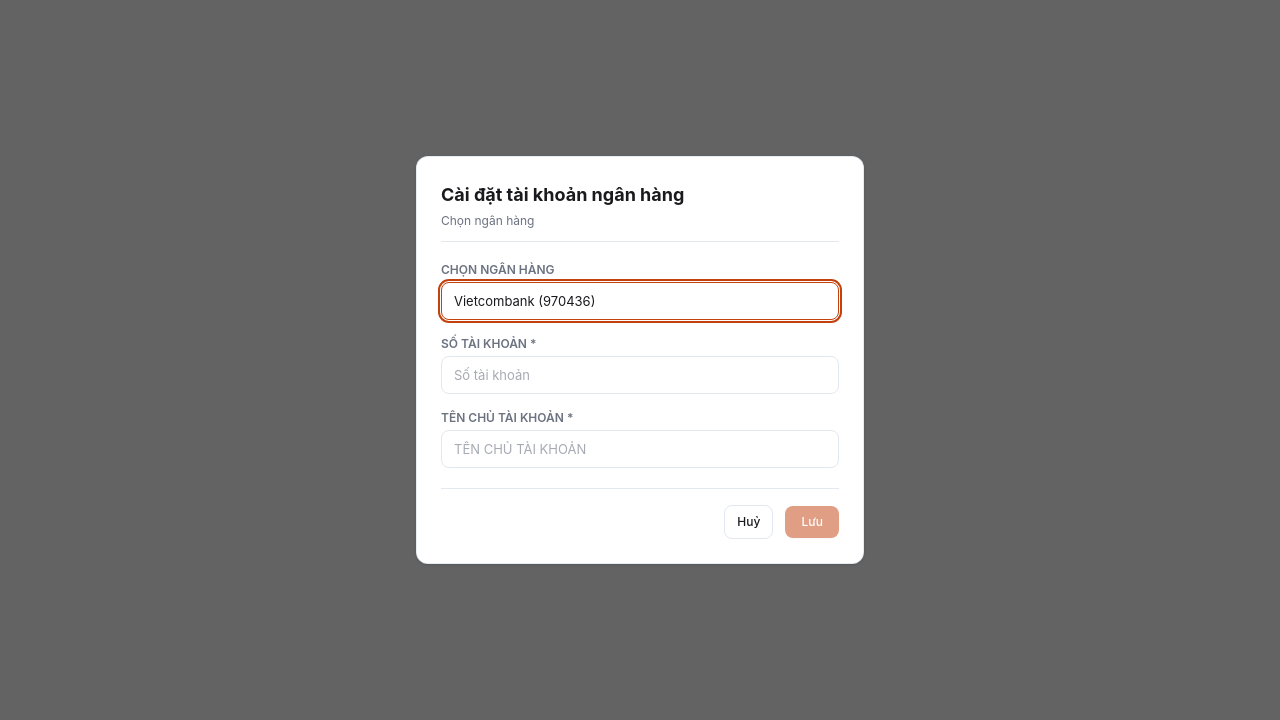
it: BankSettingsModal.vue › filters non-numeric characters from account number input
Step 1. Type "090-123.456 abc 789" into the field with placeholder "Số tài khoản" → {"x": 640, "y": 375}, box left=441, top=356, right=839, bottom=394
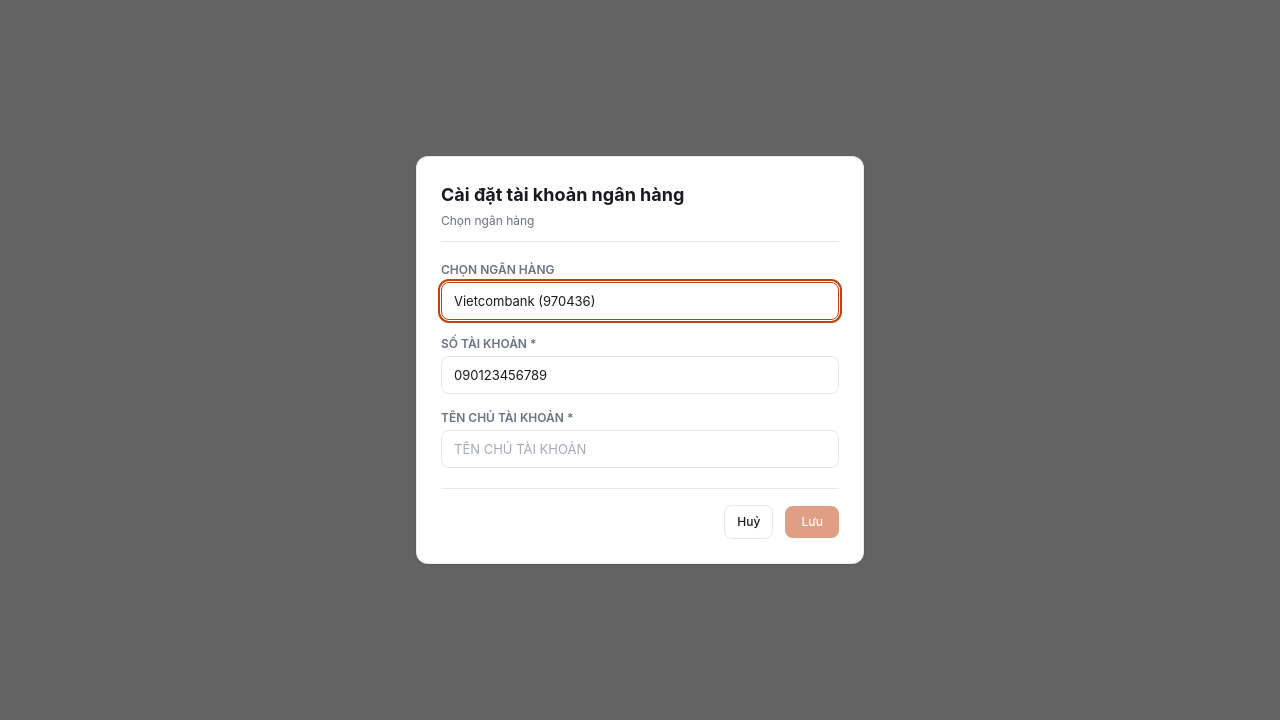
Expected: the 1st field holds "090123456789", left=441, top=356, right=839, bottom=394
